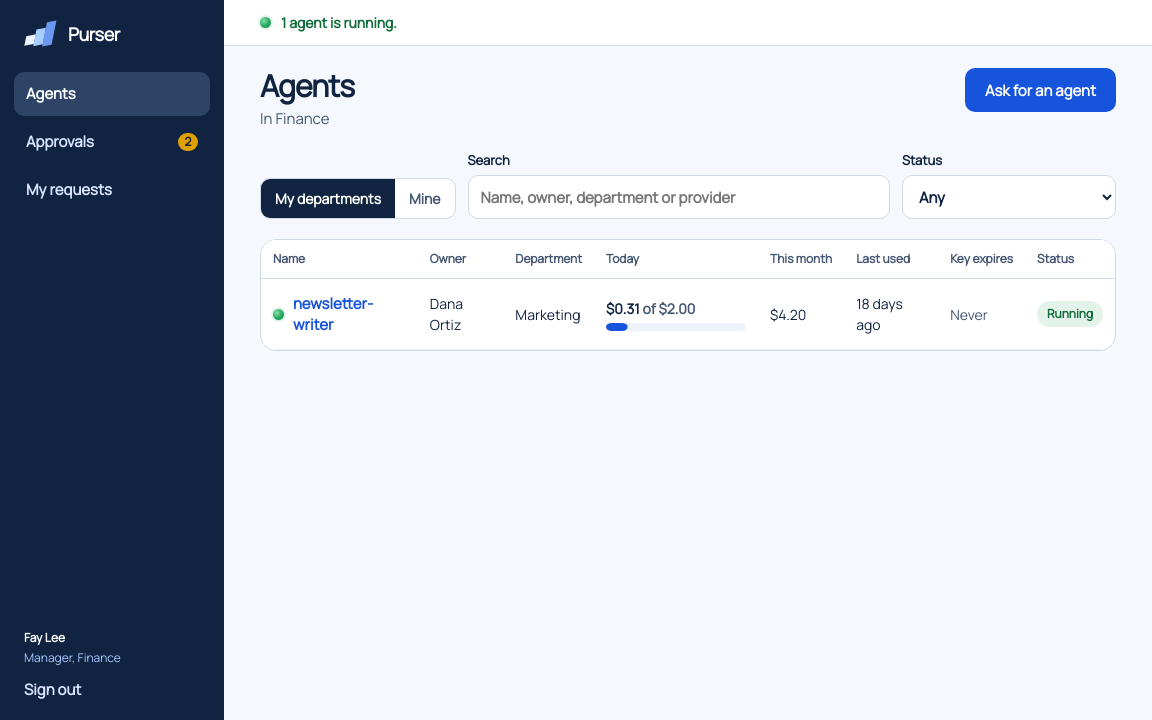
Test: my agents › switches a manager between their departments and their own
The width and height of the screenshot is (1152, 720).
Later steps or results of the test are not shown.
Expected: the heading "Agents" is shown, [260,68,354,104]
Click the button "Mine": click(425, 198) [395,179,454,218]
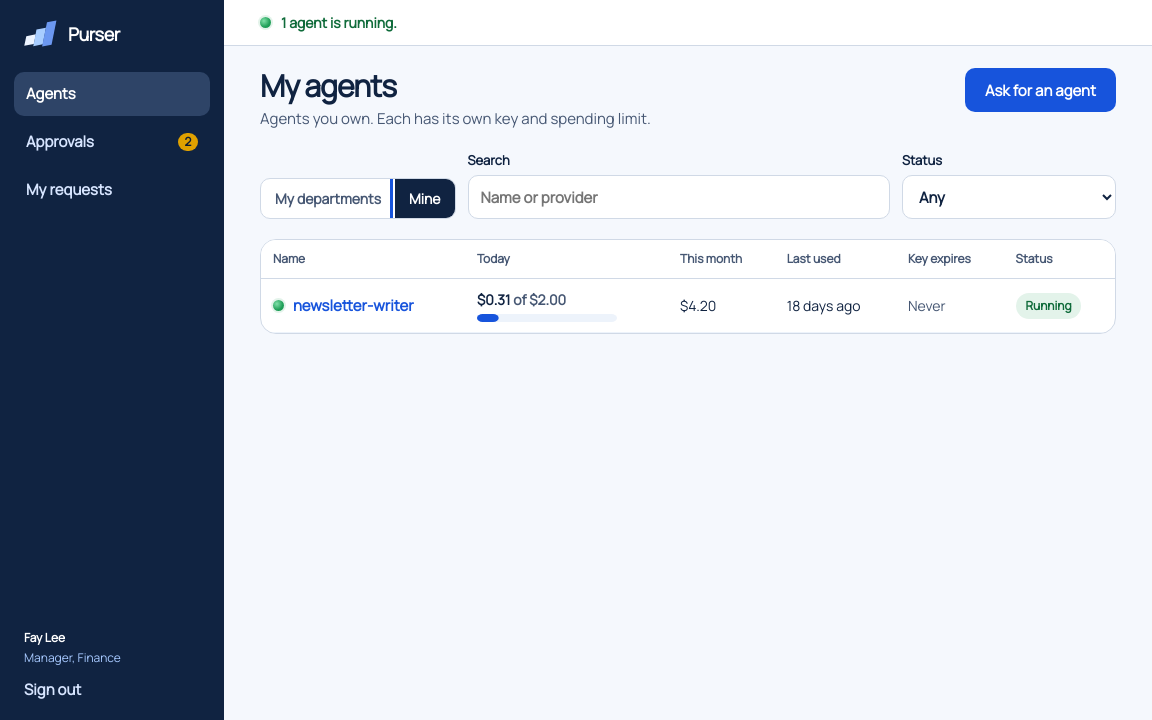
Expected: the heading "My agents" is shown, [260,65,396,106]
